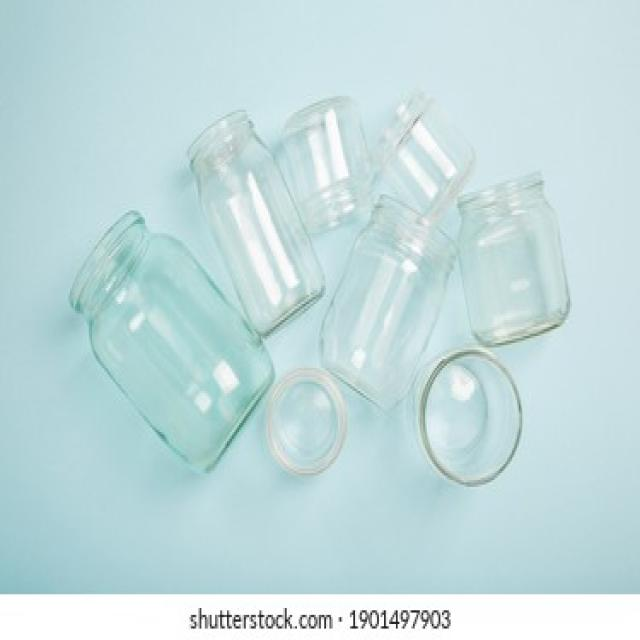glass: (133, 105, 539, 480)
